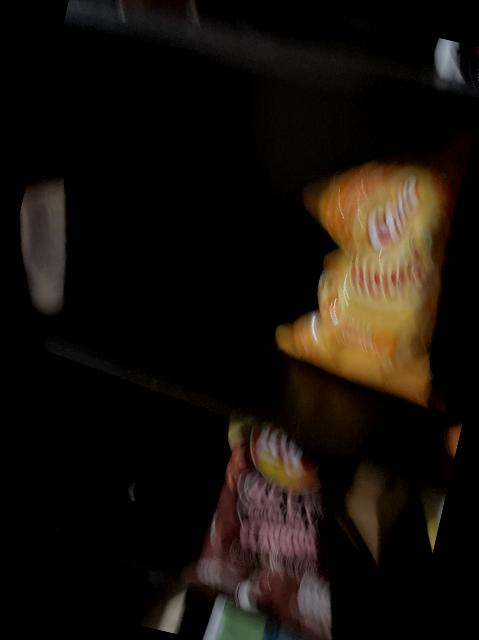Chio Cascaval 125g: (259, 89, 479, 406)
Lays Beef Grilled Ribs 125g: (175, 409, 376, 640)
